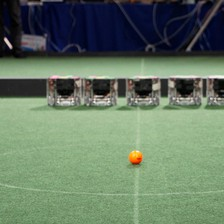ball: (126, 148, 144, 165)
robot: (43, 73, 82, 108), (124, 73, 162, 108), (166, 73, 203, 108), (83, 73, 118, 108), (207, 73, 224, 108)
